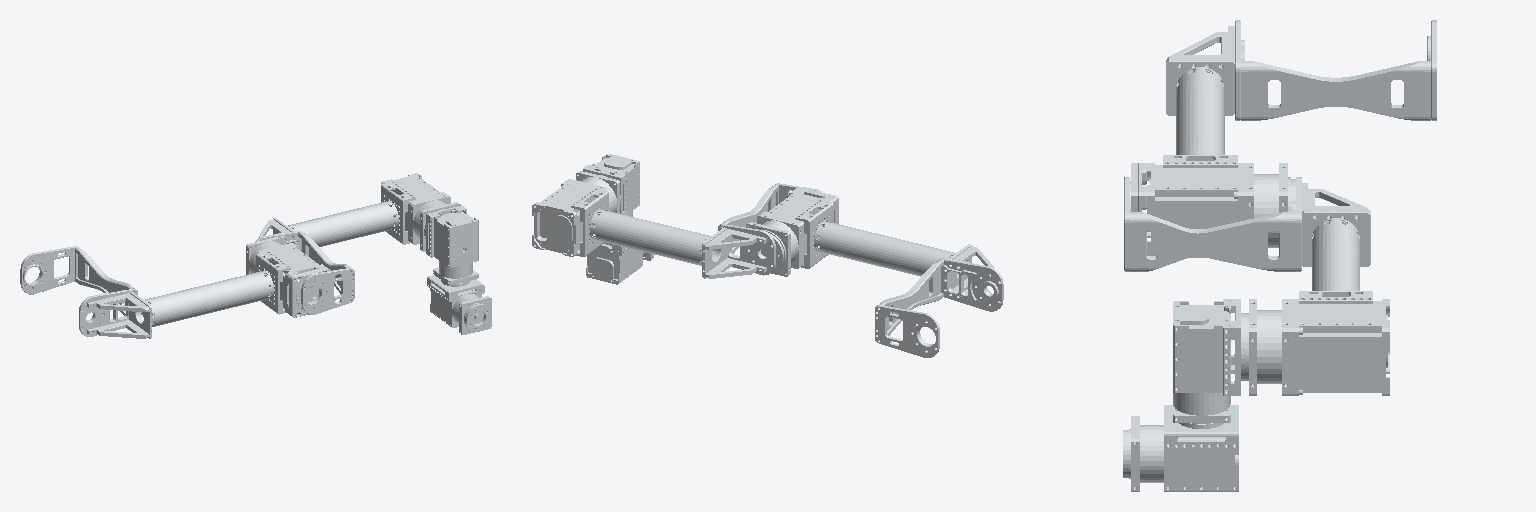
URDF robot description (single_arm_v22):
<?xml version="1.0" encoding="utf-8"?>
<!-- This URDF was automatically created by SolidWorks to URDF Exporter! Originally created by [author] ([email redacted]) 
     Commit Version: 1.6.0-4-g7f85cfe  Build Version: 1.6.7995.38578
     For more information, please see http://wiki.ros.org/sw_urdf_exporter -->
<robot
  name="single_arm_v22">
  <link
    name="base_link">
    <inertial>
      <origin
        xyz="-0.00010098 -0.00035109 0.054127"
        rpy="0 0 0" />
      <mass
        value="2.94316" />
      <inertia
        ixx="0.00082016"
        ixy="3.555E-10"
        ixz="-4.1821E-06"
        iyy="0.00081979"
        iyz="-1.4527E-07"
        izz="0.00035328" />
    </inertial>
    <visual>
      <origin
        xyz="0 0 0"
        rpy="0 0 0" />
      <geometry>
        <mesh
          filename="package://single_arm_v22/meshes/base_link.STL" />
      </geometry>
      <material
        name="">
        <color
          rgba="0.89804 0.91765 0.92941 1" />
      </material>
    </visual>
    <collision>
      <origin
        xyz="0 0 0"
        rpy="0 0 0" />
      <geometry>
        <mesh
          filename="package://single_arm_v22/meshes/base_link.STL" />
      </geometry>
    </collision>
  </link>
  <link
    name="link1">
    <inertial>
      <origin
        xyz="3.305E-06 0.0036146 0.029085"
        rpy="0 0 0" />
      <mass
        value="0.93428" />
      <inertia
        ixx="0.00048112"
        ixy="-7.0827E-08"
        ixz="-3.5566E-10"
        iyy="0.00018986"
        iyz="4.1821E-06"
        izz="0.0004948" />
    </inertial>
    <visual>
      <origin
        xyz="0 0 0"
        rpy="0 0 0" />
      <geometry>
        <mesh
          filename="package://single_arm_v22/meshes/link1.STL" />
      </geometry>
      <material
        name="">
        <color
          rgba="0.89804 0.91765 0.92941 1" />
      </material>
    </visual>
    <collision>
      <origin
        xyz="0 0 0"
        rpy="0 0 0" />
      <geometry>
        <mesh
          filename="package://single_arm_v22/meshes/link1.STL" />
      </geometry>
    </collision>
  </link>
  <joint
    name="joint1"
    type="revolute">
    <origin
      xyz="0 0 0.1445"
      rpy="0 0 0" />
    <parent
      link="base_link" />
    <child
      link="link1" />
    <axis
      xyz="0 0 1" />
    <limit
      lower="-3.14"
      upper="3.14"
      effort="0"
      velocity="0" />
  </joint>
  <link
    name="link2">
    <inertial>
      <origin
        xyz="0.17471 2.0582E-07 0.0097884"
        rpy="0 0 0" />
      <mass
        value="1.07602" />
      <inertia
        ixx="0.00054963"
        ixy="-2.1133E-12"
        ixz="3.6733E-07"
        iyy="0.0010834"
        iyz="-4.2672E-10"
        izz="0.00082532" />
    </inertial>
    <visual>
      <origin
        xyz="0 0 0"
        rpy="0 0 0" />
      <geometry>
        <mesh
          filename="package://single_arm_v22/meshes/link2.STL" />
      </geometry>
      <material
        name="">
        <color
          rgba="0.89804 0.91765 0.92941 1" />
      </material>
    </visual>
    <collision>
      <origin
        xyz="0 0 0"
        rpy="0 0 0" />
      <geometry>
        <mesh
          filename="package://single_arm_v22/meshes/link2.STL" />
      </geometry>
    </collision>
  </link>
  <joint
    name="joint2"
    type="revolute">
    <origin
      xyz="0 -0.0684999999999984 0.0315"
      rpy="1.5707963267949 0 0" />
    <parent
      link="link1" />
    <child
      link="link2" />
    <axis
      xyz="0 0 1" />
    <limit
      lower="-3.14"
      upper="3.14"
      effort="0"
      velocity="0" />
  </joint>
  <link
    name="link3">
    <inertial>
      <origin
        xyz="0.14898 1.9084E-07 -0.006871"
        rpy="0 0 0" />
      <mass
        value="1.00039" />
      <inertia
        ixx="0.00047701"
        ixy="-1.0214E-11"
        ixz="-1.2577E-06"
        iyy="0.00077795"
        iyz="-9.0438E-10"
        izz="0.00054702" />
    </inertial>
    <visual>
      <origin
        xyz="0 0 0"
        rpy="0 0 0" />
      <geometry>
        <mesh
          filename="package://single_arm_v22/meshes/link3.STL" />
      </geometry>
      <material
        name="">
        <color
          rgba="0.89804 0.91765 0.92941 1" />
      </material>
    </visual>
    <collision>
      <origin
        xyz="0 0 0"
        rpy="0 0 0" />
      <geometry>
        <mesh
          filename="package://single_arm_v22/meshes/link3.STL" />
      </geometry>
    </collision>
  </link>
  <joint
    name="joint3"
    type="revolute">
    <origin
      xyz="0.2675 0 -0.0390000000000001"
      rpy="0 0 0" />
    <parent
      link="link2" />
    <child
      link="link3" />
    <axis
      xyz="0 0 -1" />
    <limit
      lower="-3.14"
      upper="3.14"
      effort="0"
      velocity="0" />
  </joint>
  <link
    name="link4">
    <inertial>
      <origin
        xyz="2.7756E-16 0.01039 0.02404"
        rpy="0 0 0" />
      <mass
        value="0.36924" />
      <inertia
        ixx="9.4187E-05"
        ixy="1.3079E-19"
        ixz="-1.4502E-16"
        iyy="4.476E-05"
        iyz="5.3346E-07"
        izz="0.0001027" />
    </inertial>
    <visual>
      <origin
        xyz="0 0 0"
        rpy="0 0 0" />
      <geometry>
        <mesh
          filename="package://single_arm_v22/meshes/link4.STL" />
      </geometry>
      <material
        name="">
        <color
          rgba="0.89804 0.91765 0.92941 1" />
      </material>
    </visual>
    <collision>
      <origin
        xyz="0 0 0"
        rpy="0 0 0" />
      <geometry>
        <mesh
          filename="package://single_arm_v22/meshes/link4.STL" />
      </geometry>
    </collision>
  </link>
  <joint
    name="joint4"
    type="revolute">
    <origin
      xyz="0.2324 0 0.0390000000000069"
      rpy="0 0 -3.14159265358979" />
    <parent
      link="link3" />
    <child
      link="link4" />
    <axis
      xyz="0 0 1" />
    <limit
      lower="-3.14"
      upper="3.14"
      effort="0"
      velocity="0" />
  </joint>
  <link
    name="link5">
    <inertial>
      <origin
        xyz="0.028614 0.010457 -1.6653E-16"
        rpy="0 0 0" />
      <mass
        value="0.36821" />
      <inertia
        ixx="0.00010133"
        ixy="5.3346E-07"
        ixz="1.4501E-16"
        iyy="4.3878E-05"
        iyz="-9.098E-20"
        izz="9.3658E-05" />
    </inertial>
    <visual>
      <origin
        xyz="0 0 0"
        rpy="0 0 0" />
      <geometry>
        <mesh
          filename="package://single_arm_v22/meshes/link5.STL" />
      </geometry>
      <material
        name="">
        <color
          rgba="0.89804 0.91765 0.92941 1" />
      </material>
    </visual>
    <collision>
      <origin
        xyz="0 0 0"
        rpy="0 0 0" />
      <geometry>
        <mesh
          filename="package://single_arm_v22/meshes/link5.STL" />
      </geometry>
    </collision>
  </link>
  <joint
    name="joint5"
    type="revolute">
    <origin
      xyz="0 0.052 0.0286"
      rpy="1.5707963267949 0 1.5707963267949" />
    <parent
      link="link4" />
    <child
      link="link5" />
    <axis
      xyz="1 0 0" />
    <limit
      lower="-3.14"
      upper="3.14"
      effort="0"
      velocity="0" />
  </joint>
  <link
    name="link6">
    <inertial>
      <origin
        xyz="-4.44089209850063E-16 5.37938091368581E-07 -0.00700006055550945"
        rpy="0 0 0" />
      <mass
        value="0.0259770442543706" />
      <inertia
        ixx="2.20534281951167E-06"
        ixy="1.78671012311437E-22"
        ixz="-8.79317315621994E-22"
        iyy="2.20534281951168E-06"
        iyz="2.32583060538047E-20"
        izz="3.9777349014505E-06" />
    </inertial>
    <visual>
      <origin
        xyz="0 0 0"
        rpy="0 0 0" />
      <geometry>
        <mesh
          filename="package://single_arm_v22/meshes/link6.STL" />
      </geometry>
      <material
        name="">
        <color
          rgba="0.898039215686275 0.917647058823529 0.929411764705882 1" />
      </material>
    </visual>
    <collision>
      <origin
        xyz="0 0 0"
        rpy="0 0 0" />
      <geometry>
        <mesh
          filename="package://single_arm_v22/meshes/link6.STL" />
      </geometry>
    </collision>
  </link>
  <joint
    name="joint6"
    type="revolute">
    <origin
      xyz="0.0330005379381037 0.0549999394444907 0"
      rpy="1.57079632679488 -1.5707963267949 0" />
    <parent
      link="link5" />
    <child
      link="link6" />
    <axis
      xyz="0 0 1" />
    <limit
      lower="-3.14"
      upper="3.14"
      effort="0"
      velocity="0" />
  </joint>
</robot>

--- Facts derived from the render (not from the file) ---
Views: 3 orthographic renders of the robot side by side, from view 1: azimuth 30°, elevation 25°; view 2: azimuth 150°, elevation 25°; view 3: azimuth 270°, elevation 25°.
Robot: single_arm_v22 — 7 links, 6 joints (6 revolute); root link base_link; default pose: every joint at zero.
Visible links, largest first — view 1: link2, link3, link4, link5; view 2: link2, link3, link5, link4; view 3: link3, link2, link4, link5.
Boxes of the visible links, x1,y1,x2,y2 form: link2: (20, 235, 330, 338); link3: (255, 173, 460, 314); link4: (425, 205, 478, 285); link5: (427, 275, 491, 334); link2: (746, 187, 1003, 357); link3: (532, 171, 823, 278); link5: (586, 243, 653, 284); link4: (583, 154, 639, 216); link3: (1124, 177, 1389, 395); link2: (1130, 20, 1436, 257); link4: (1173, 299, 1245, 423); link5: (1123, 405, 1238, 491).
Size in the robot's own frame: 0.5419 by 0.2271 by 0.136 metres.
Meshes: 7 distinct files referenced, 4 mesh visuals loaded (4 binary STL); not drawn: 3 (reference not matched to a file when rendering).